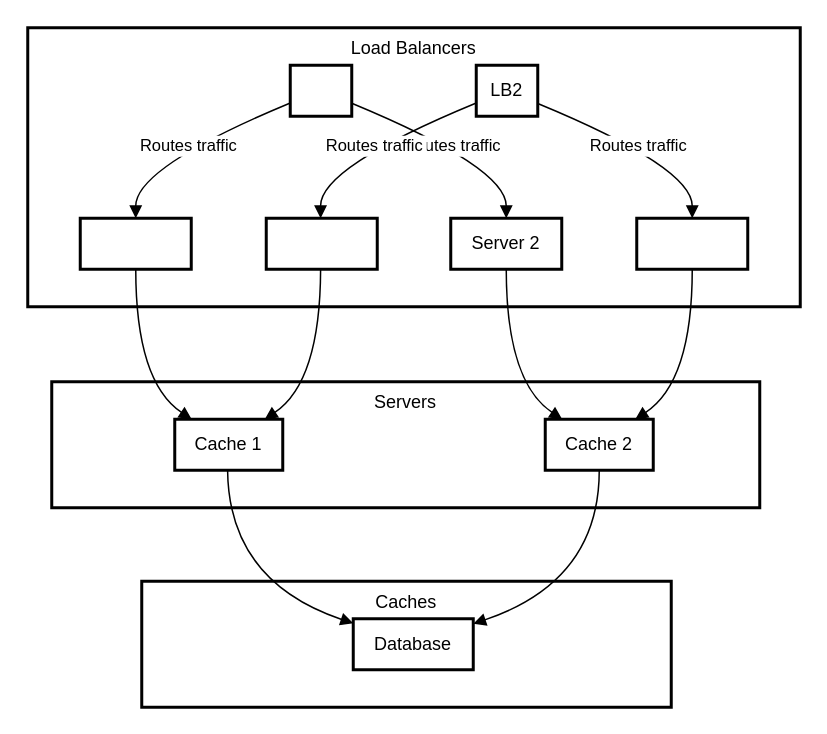
The diagram is 827 pixels wide and 734 high, and some of its shapes have lost their labels. Here are the shapes that lost their labels. From the top down, the centre of each, then its label:
At point (320, 90): "LB1".
At point (135, 243): "Server 1".
At point (321, 243): "Server 3".
At point (691, 243): "Server 4".
